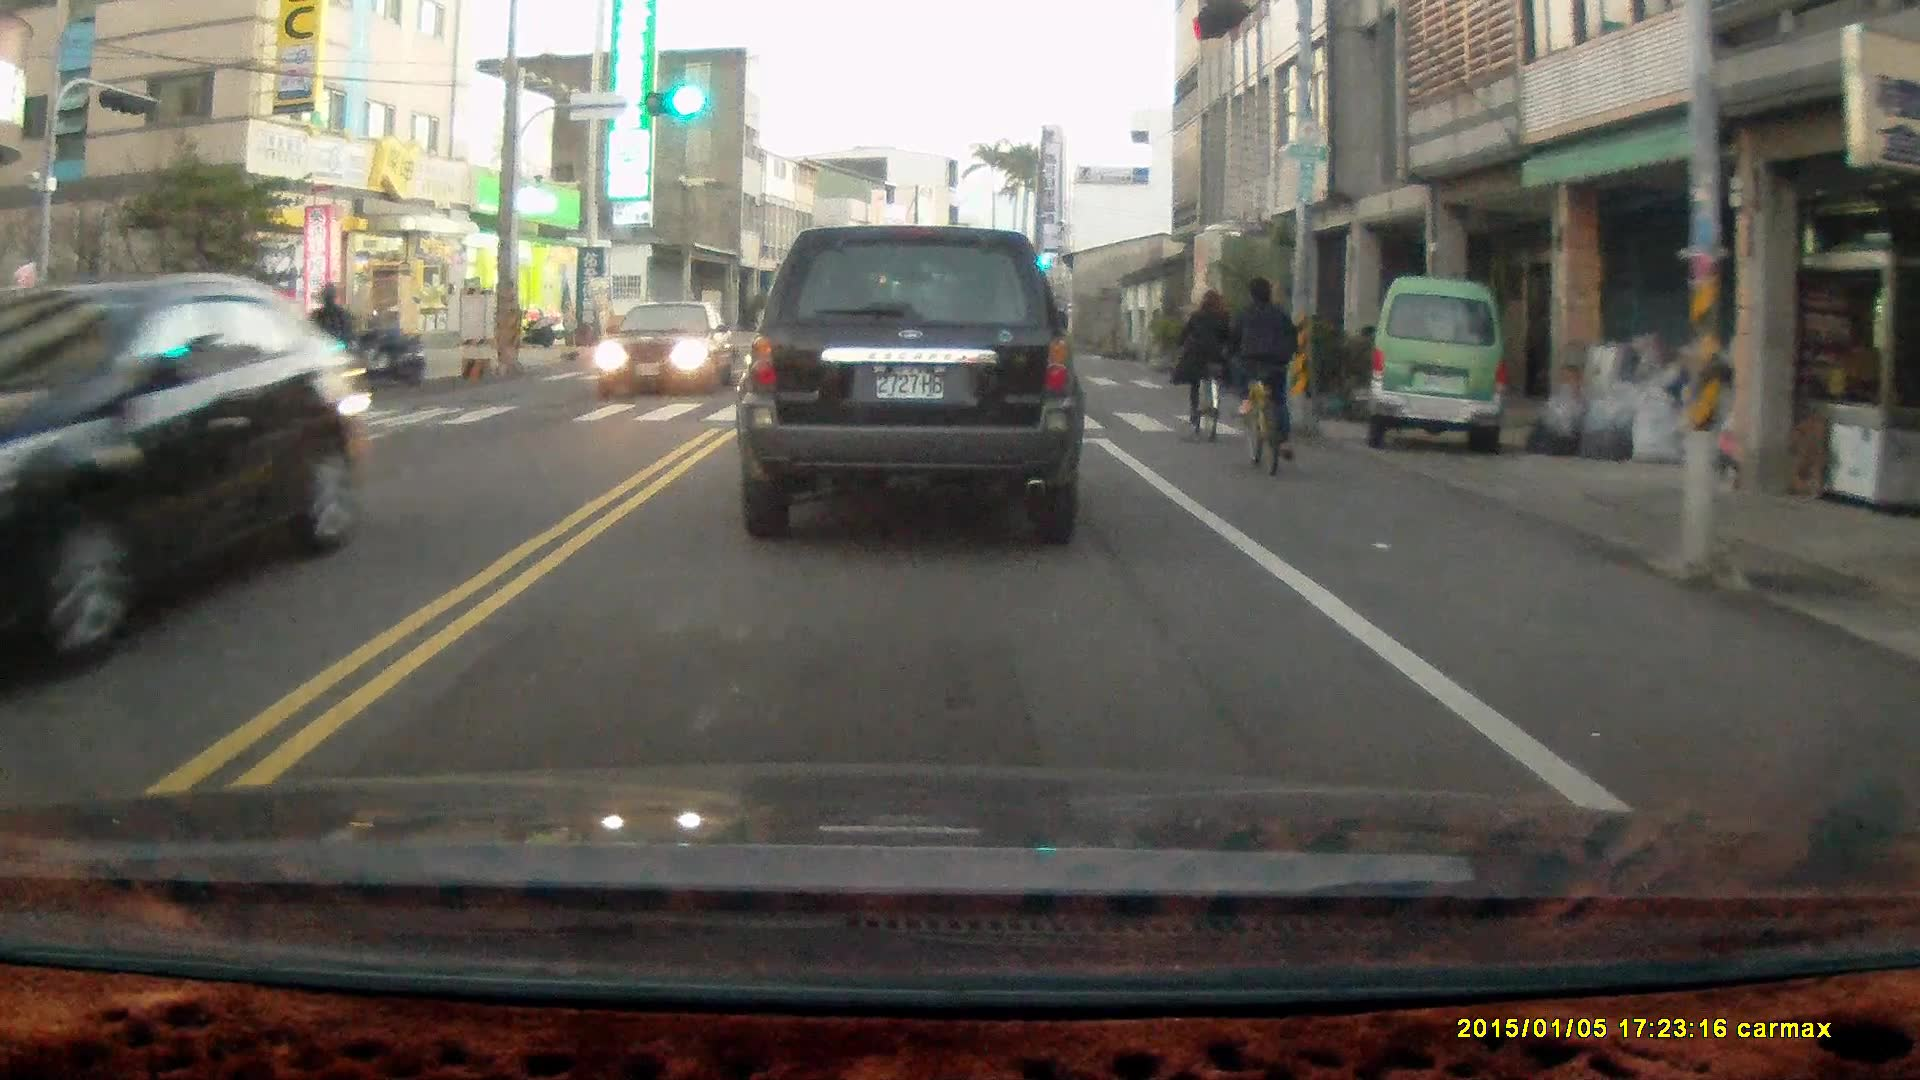rider: (1218, 274, 1299, 479), (1172, 289, 1231, 447), (343, 308, 422, 392)
vehicle: (1, 274, 382, 673), (751, 223, 1088, 534), (1363, 276, 1509, 459), (593, 302, 741, 404)
